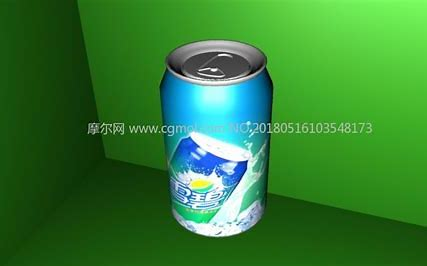Sprite: (160, 37, 279, 239)
